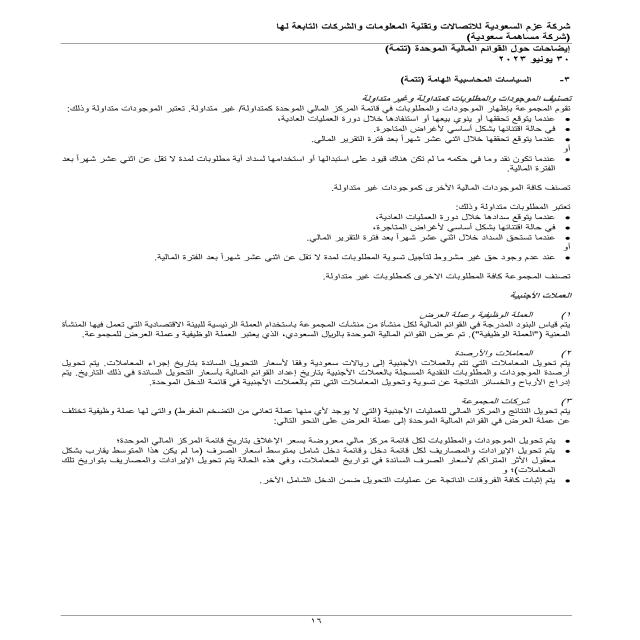notes: (368, 43, 575, 54)
text: (26, 71, 578, 504)
